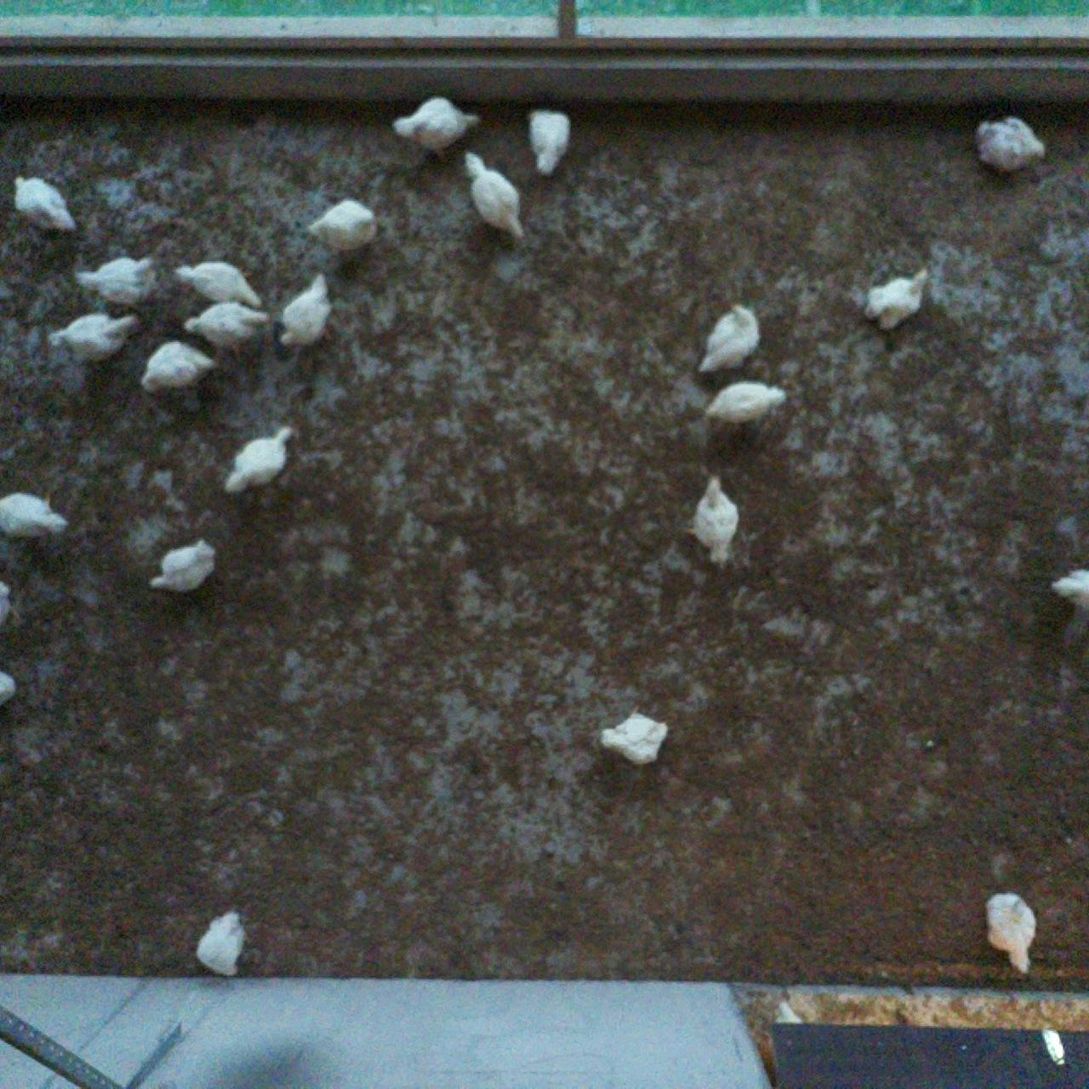chicken: (678, 470, 749, 569), (459, 147, 527, 248), (391, 92, 484, 165), (271, 265, 338, 358), (220, 419, 297, 498), (66, 249, 161, 312), (696, 299, 767, 379), (169, 256, 264, 315), (136, 334, 225, 396), (597, 701, 675, 771), (982, 888, 1043, 975), (180, 301, 269, 360), (972, 114, 1050, 179), (48, 310, 140, 365), (862, 263, 931, 335), (11, 166, 76, 242), (698, 373, 788, 425), (305, 193, 382, 251), (147, 534, 218, 596), (191, 908, 250, 979), (523, 105, 576, 183), (0, 486, 68, 545), (1049, 565, 1089, 613), (0, 576, 14, 626), (0, 669, 18, 707)
